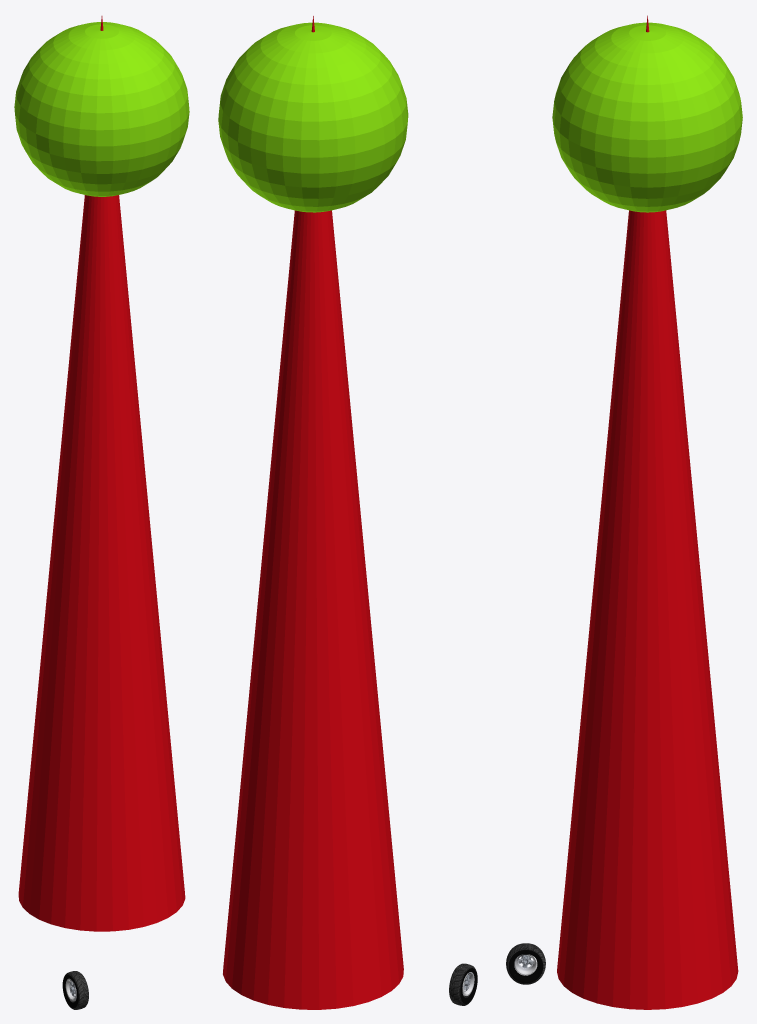
Rendered from faroMarvin.fbx.
The picture shows the model from 3 angles, left to right: view 1: azimuth 30°, elevation 25°; view 2: azimuth 150°, elevation 25°; view 3: azimuth 270°, elevation 25°; orthographic projection. The views are drawn at different scales.
Parts seen in each view (by area): view 1: faro Marvin, faro Marvin.001, Llanta.001; view 2: faro Marvin, faro Marvin.001, Llanta.001; view 3: faro Marvin, faro Marvin.001, Llanta.001.
Boxes of the visible parts, <box> form: faro Marvin: <box>18,16,185,931</box>; faro Marvin.001: <box>14,22,189,196</box>; Llanta.001: <box>62,971,88,1009</box>; faro Marvin: <box>223,16,403,1009</box>; faro Marvin.001: <box>218,22,408,212</box>; Llanta.001: <box>449,963,477,1005</box>; faro Marvin: <box>557,15,738,1009</box>; faro Marvin.001: <box>552,22,742,212</box>; Llanta.001: <box>506,943,545,984</box>.
Bounding box in the file's own units: 137 × 748 × 158.
